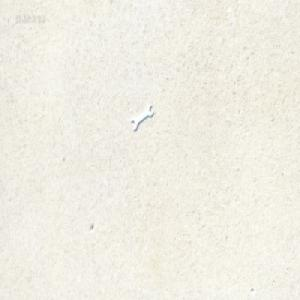Wrench: (130, 103, 152, 131)
